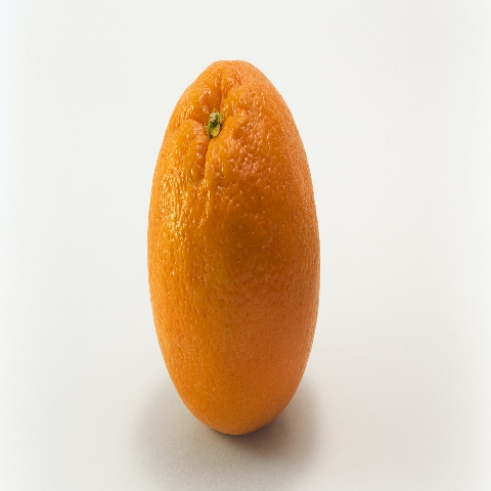orange: (119, 14, 366, 481)
